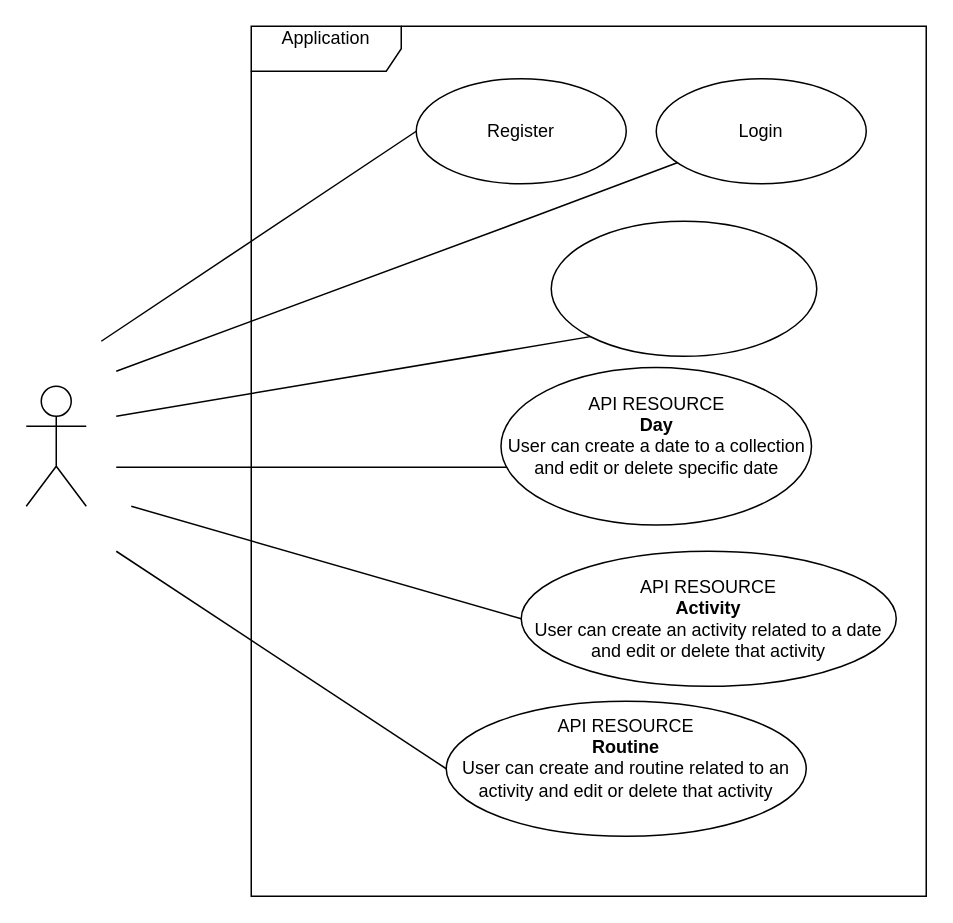
This 953x923 diagram has some shape labels left out. Here are the shapes that lost their labels. From the top down, the centre of each, then its label:
At (683,288): "API RESOURCE Profile User information can be edited through API".
At (55,445): "Client".
